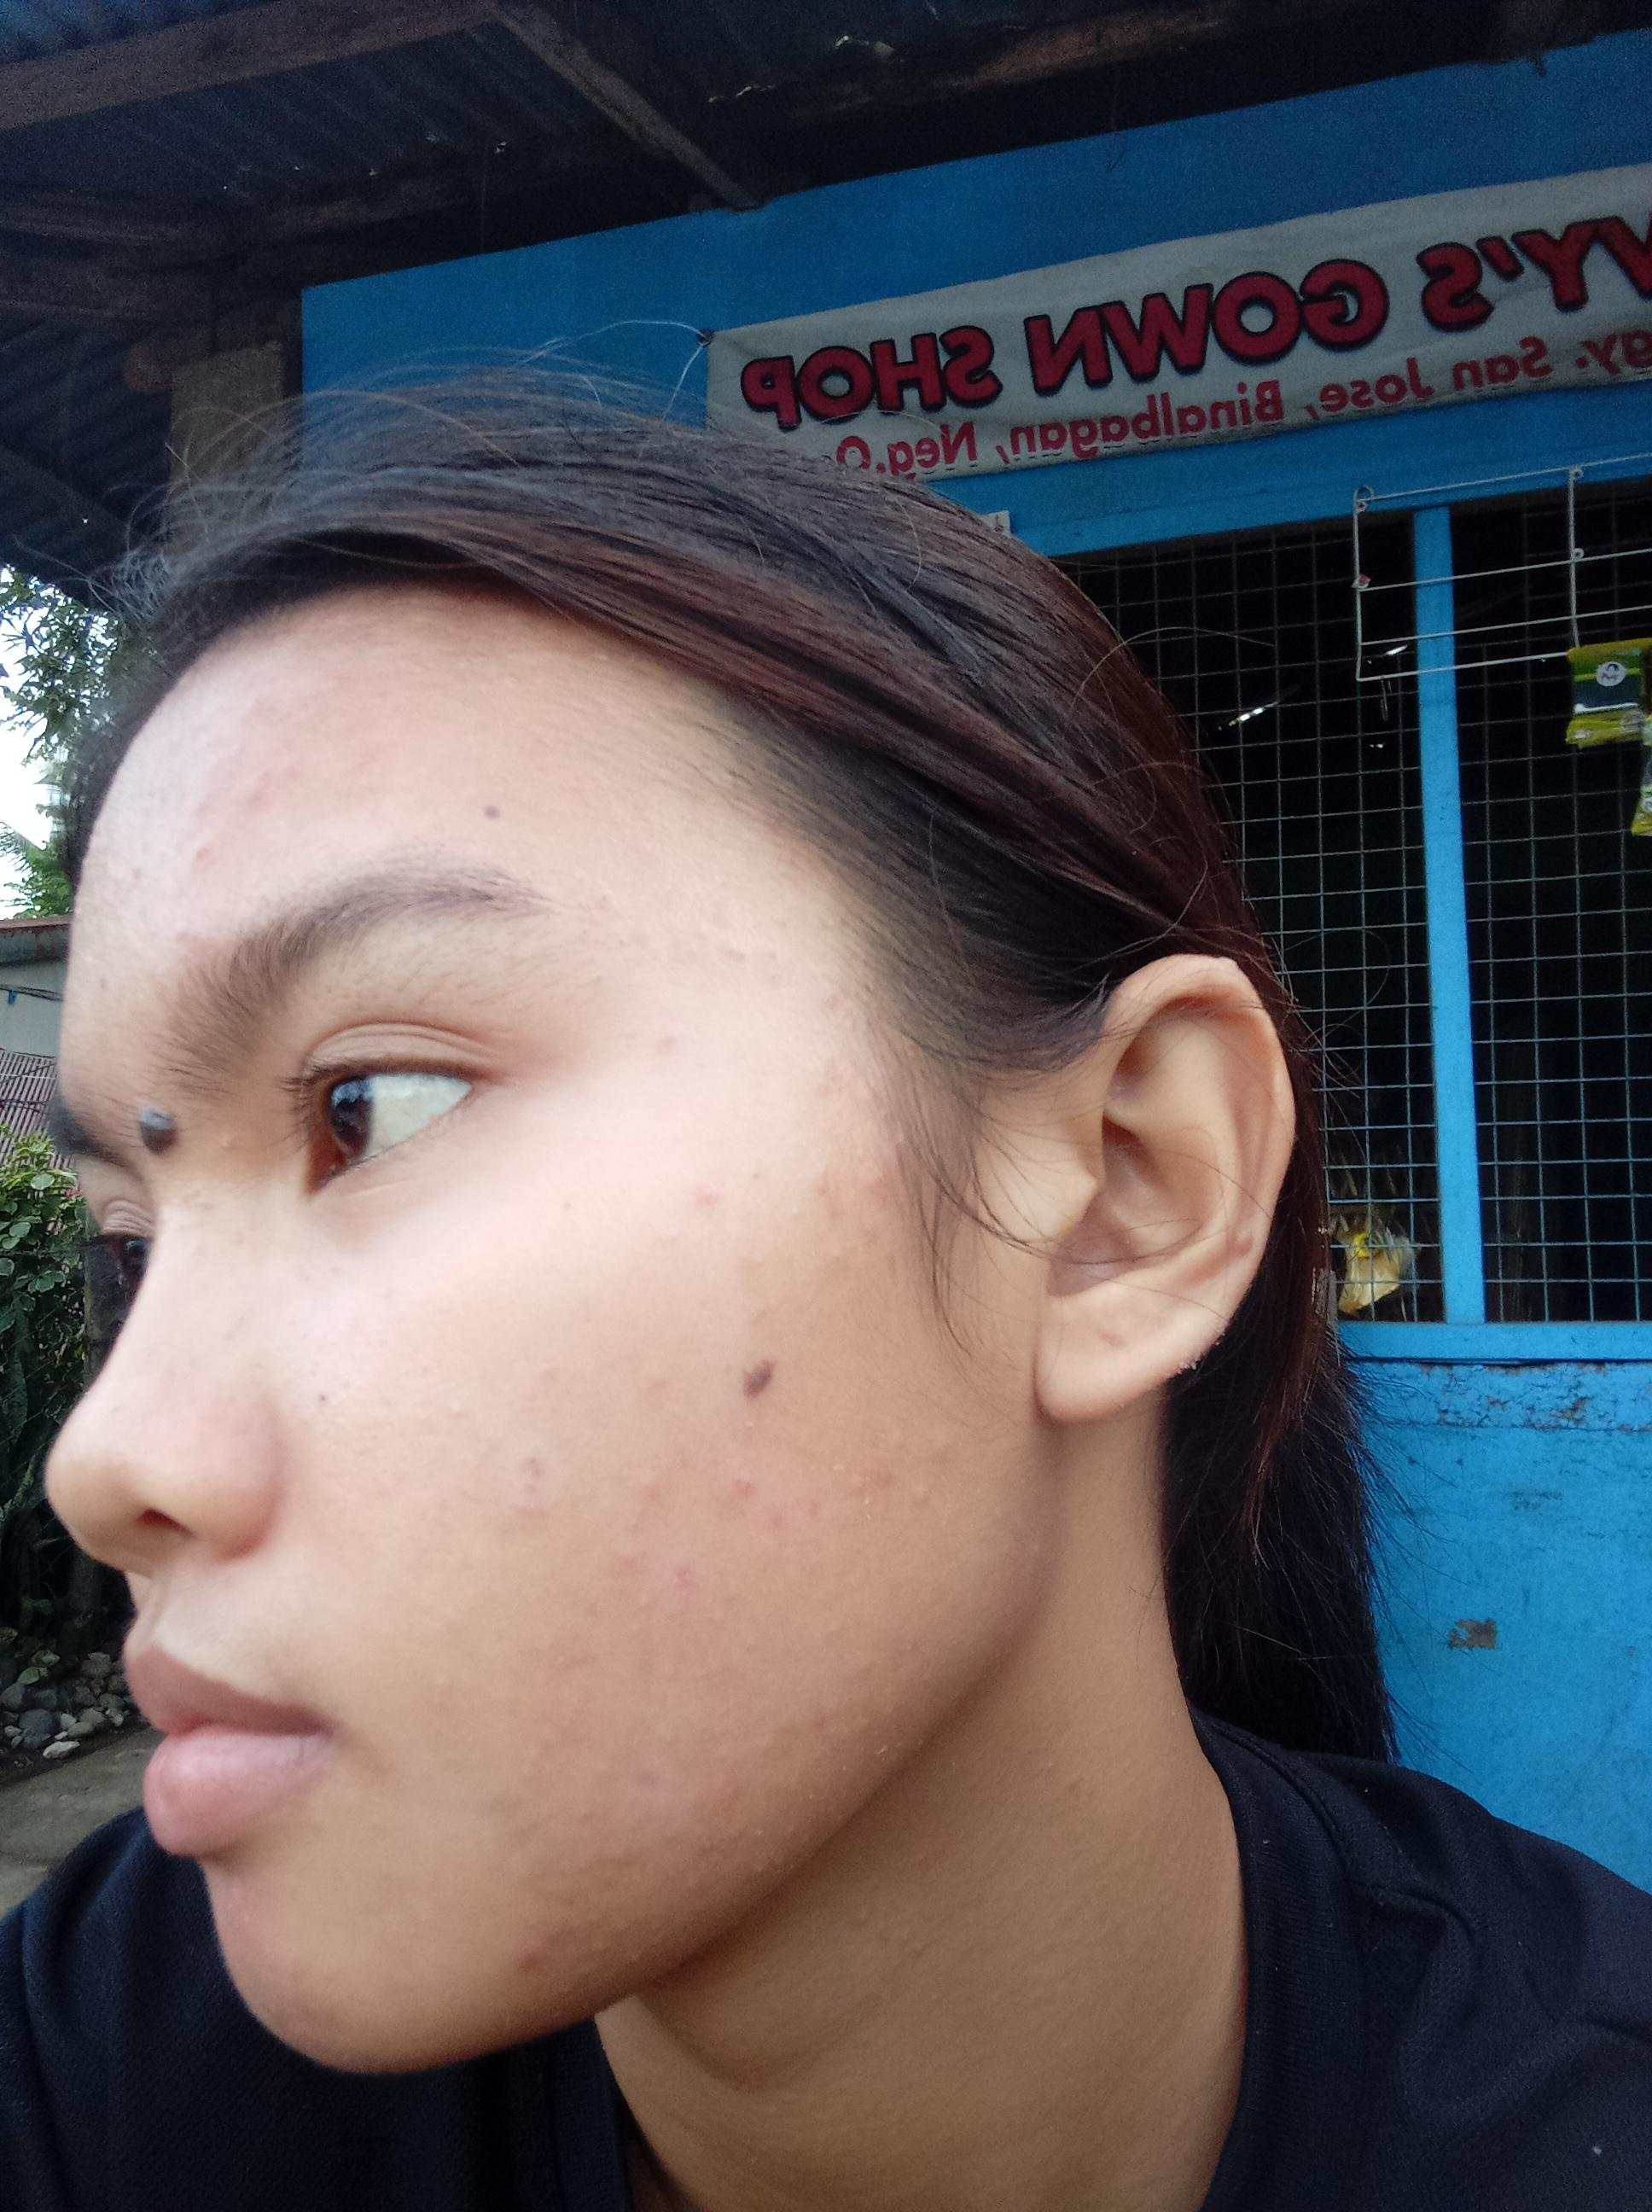Acne: (175, 749, 298, 880), (600, 1480, 703, 1615), (673, 1782, 788, 1893), (737, 1685, 894, 1757), (510, 1915, 588, 1995), (725, 1463, 800, 1541), (784, 1154, 902, 1202), (479, 1780, 559, 1851), (826, 1454, 942, 1502), (482, 1430, 552, 1501), (661, 1162, 720, 1211), (217, 1870, 259, 1936)
Blackheads: (259, 1313, 363, 1421)
